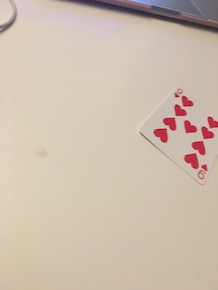NineOfHearts: (137, 83, 218, 189)
